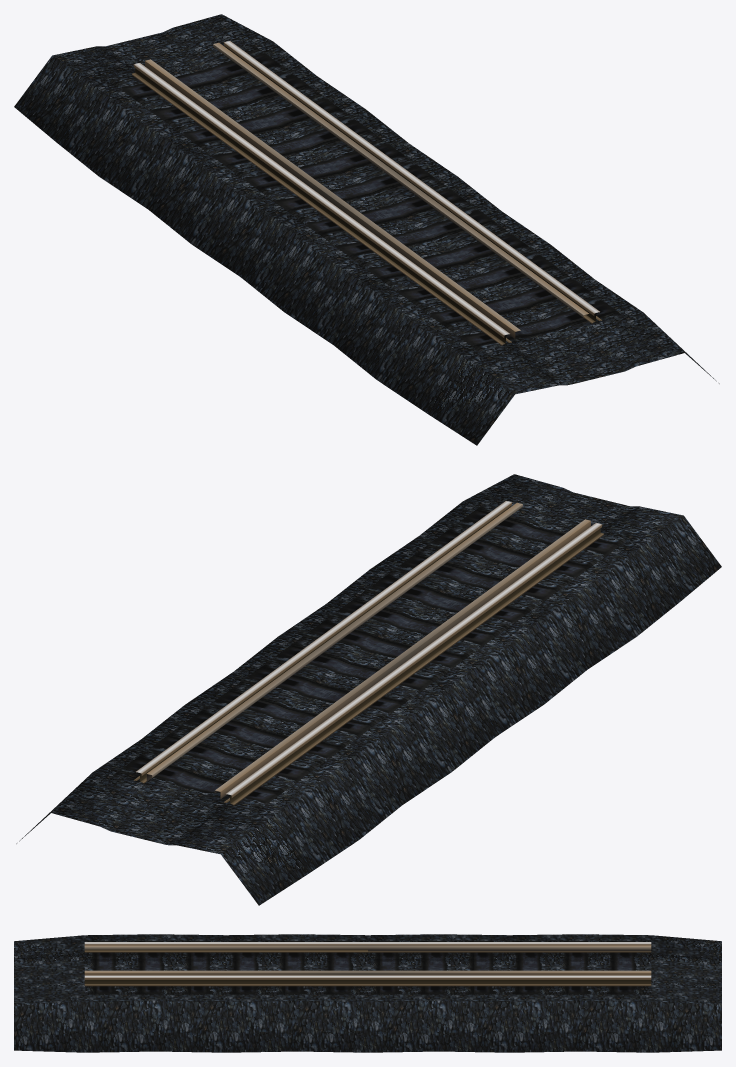
The model's file is SIN_1RAIL_25.glb.
3 renders of one model, top to bottom at view 1: azimuth 30°, elevation 25°; view 2: azimuth 150°, elevation 25°; view 3: azimuth 270°, elevation 25°, orthographic. The views are drawn at different scales.
Parts seen in each view (by area): view 1: obj3, R000_RG_R2, R000_RG_L2; view 2: obj3, R000_RG_R2, R000_RG_L2; view 3: obj3, R000_RG_R2, R000_RG_L2.
Part boxes in pixels (x1,y1,x2,y2): obj3: (14,14,719,445); R000_RG_R2: (145,59,520,338); R000_RG_L2: (213,42,588,317); obj3: (16,474,721,905); R000_RG_R2: (214,519,590,799); R000_RG_L2: (146,502,522,781); obj3: (14,934,721,1052); R000_RG_R2: (84,945,651,951); R000_RG_L2: (84,970,651,975).
Size of the model in its own units: 10.07 by 2.21 by 31.25.
6 materials, 5 textured.
